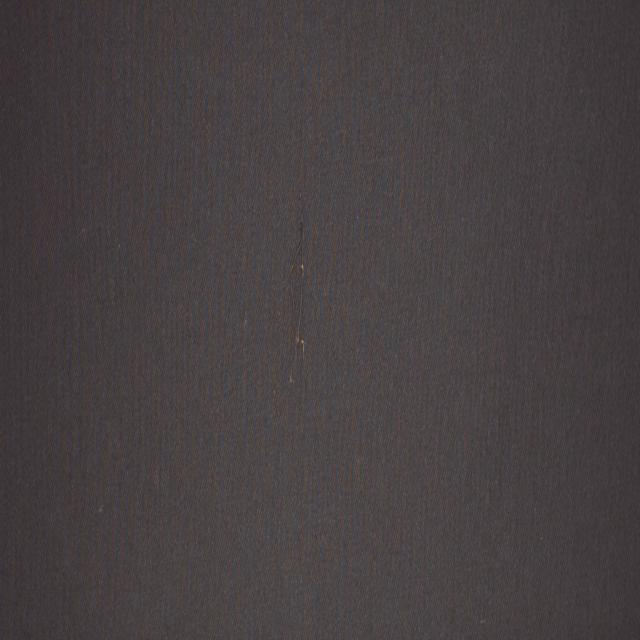defect: (285, 180, 311, 397)
